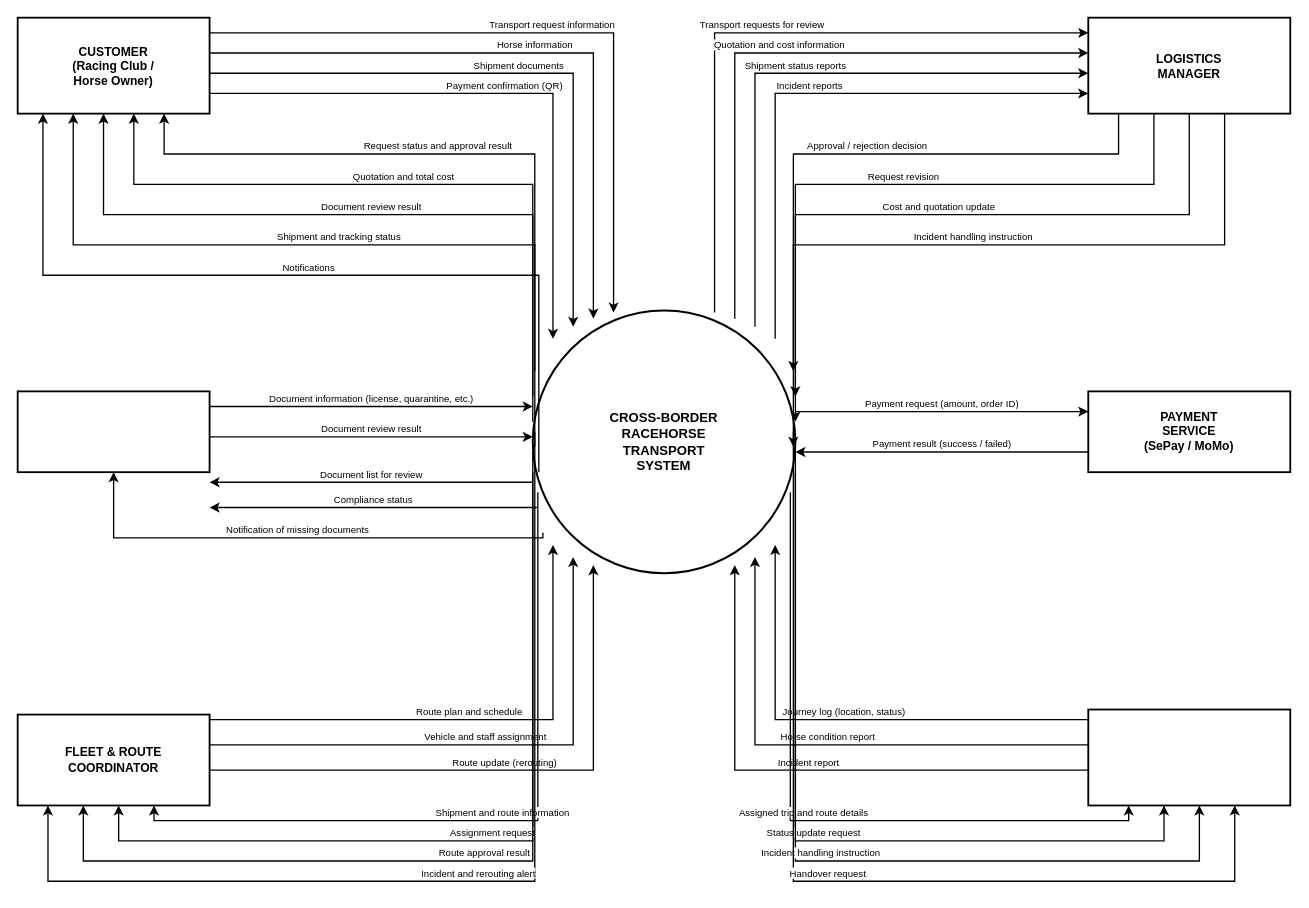
Some shapes in this 1309 by 908 pixel diagram are drawn without their labels. Each missing label, with the centre of its shape:
"TRANSPORT SPECIALIST" belongs at point 113,431.
"VEHICLE DRIVER / ESCORT" belongs at point 1189,757.
